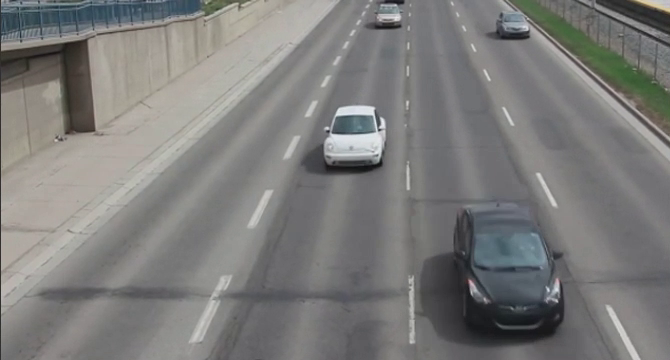car: (455, 197, 568, 328), (319, 99, 389, 172), (372, 2, 404, 31), (498, 8, 530, 37)
